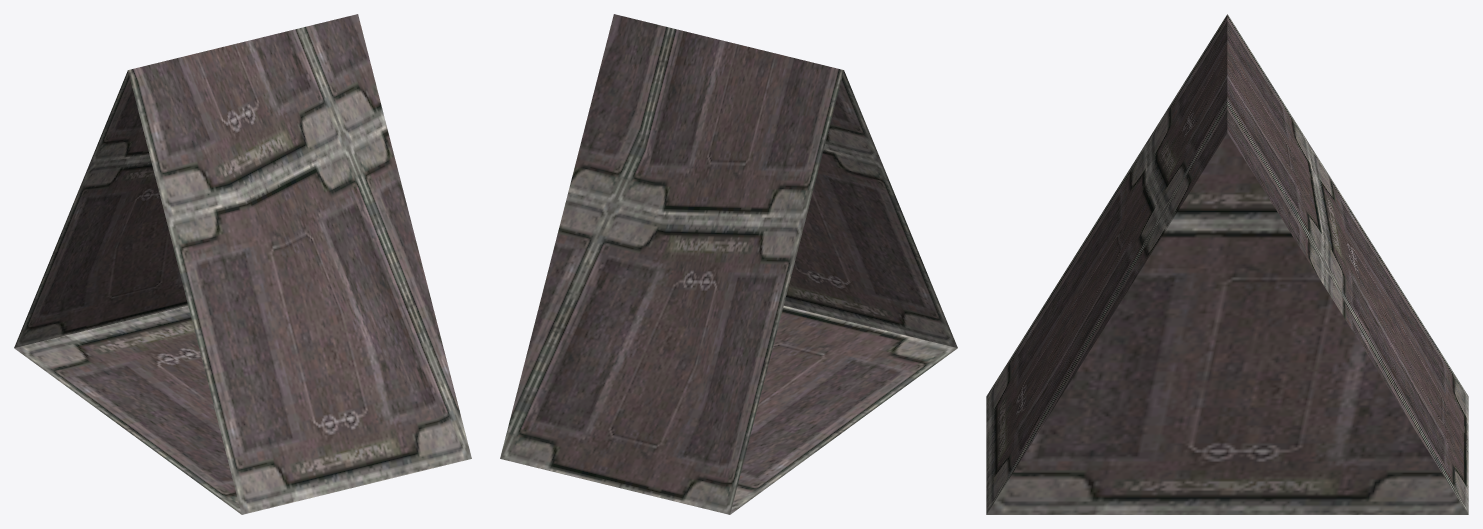
File: thm_newbie_hall_skippedtutorial_r0_mesh_l1.fbx
3 renders of one model, left to right at view 1: azimuth 30°, elevation 25°; view 2: azimuth 150°, elevation 25°; view 3: azimuth 270°, elevation 25°, orthographic. The views are drawn at different scales.
Parts seen in each view (by area): view 1: mesh_node; view 2: mesh_node; view 3: mesh_node.
Boxes of the visible parts, x1,y1,x2,y2 form: mesh_node: (14,14,471,514); mesh_node: (500,14,957,514); mesh_node: (986,14,1468,514).
Bounding box in the file's own units: 4.66 × 7 × 8.
